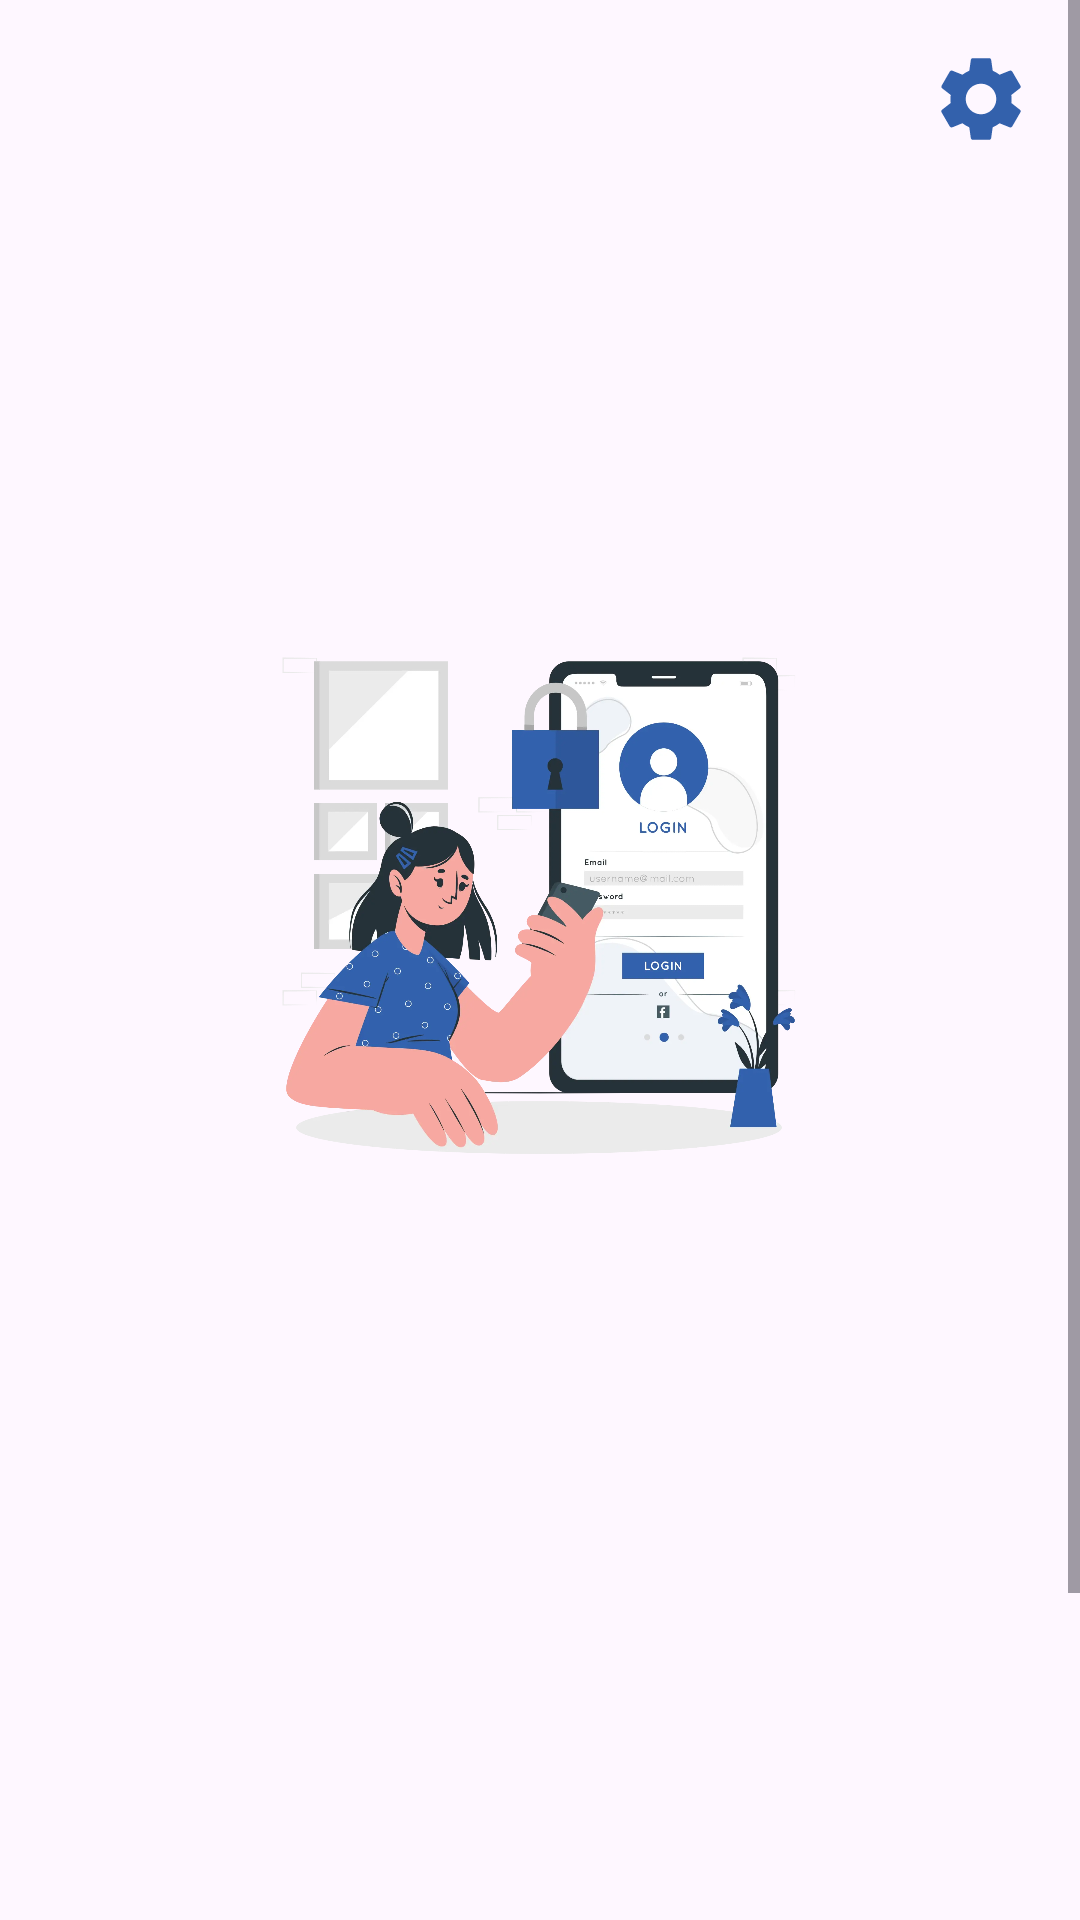

Icons on this 1080px×1920px Android screen, each with the point to tap as (x=x, y=y):
Setting to change language: (x=981, y=99)
